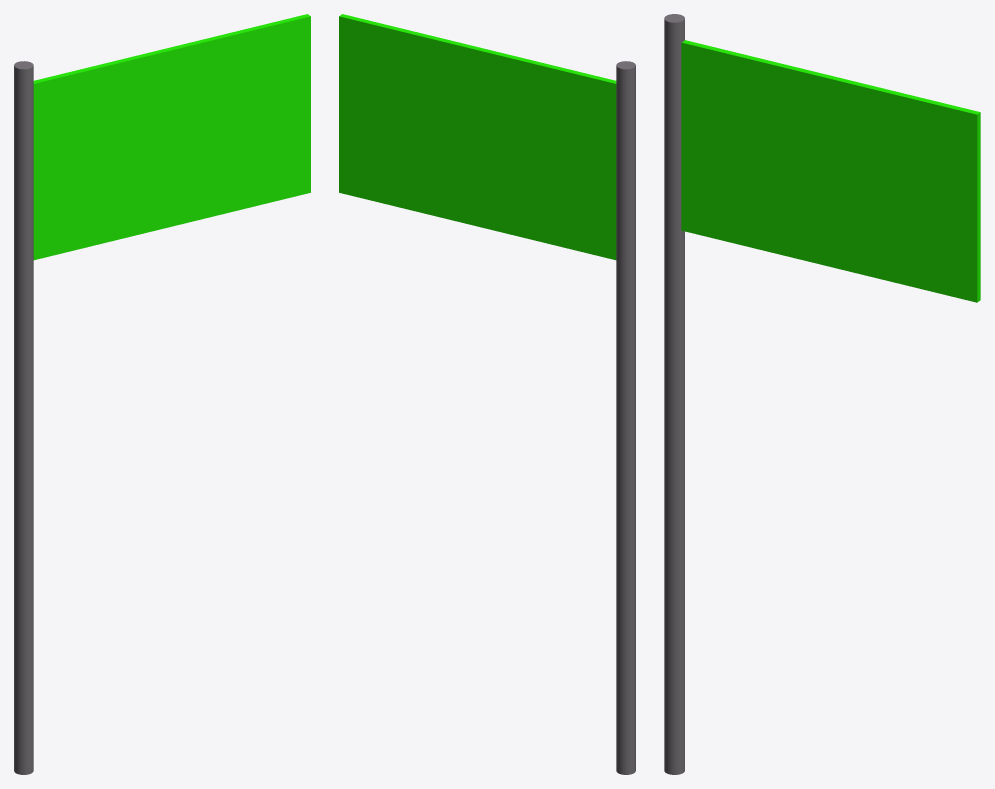
The model's file is OBJETIVO.glb.
3 views of the same model, side by side, from view 1: azimuth 30°, elevation 25°; view 2: azimuth 150°, elevation 25°; view 3: azimuth 330°, elevation 25° (orthographic). The views are drawn at different scales.
Parts seen in each view (by area): view 1: OBJETIVO_Cubo, OBJETIVO_Cilindro; view 2: OBJETIVO_Cubo, OBJETIVO_Cilindro; view 3: OBJETIVO_Cubo, OBJETIVO_Cilindro.
Part boxes in pixels (x1,y1,x2,y2): OBJETIVO_Cubo: [33, 14, 310, 260]; OBJETIVO_Cilindro: [14, 61, 33, 774]; OBJETIVO_Cubo: [339, 14, 616, 260]; OBJETIVO_Cilindro: [616, 61, 635, 774]; OBJETIVO_Cubo: [681, 40, 980, 302]; OBJETIVO_Cilindro: [664, 14, 684, 774].
Size of what is drawn, in the model's own units: 0.5229 by 1.2 by 0.03.
2 materials, 2 textured.
